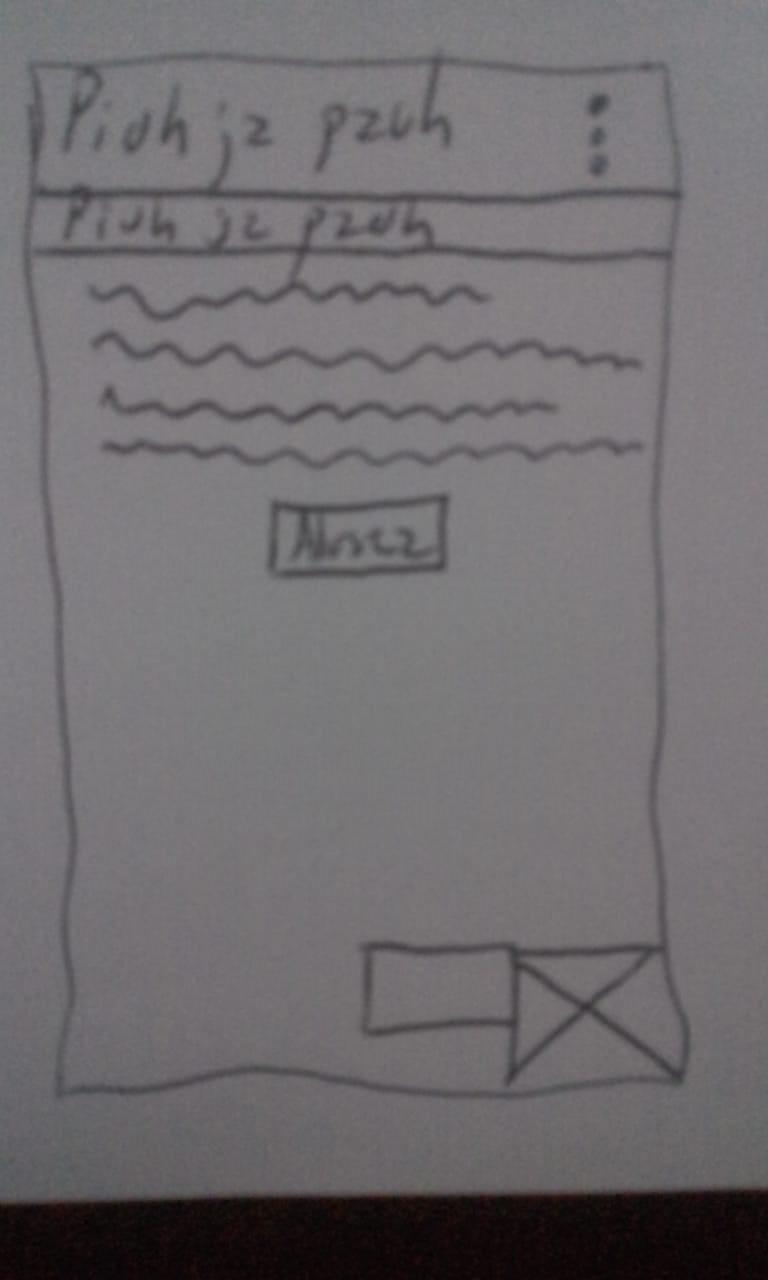Button: (268, 492, 450, 580)
Image: (511, 945, 690, 1094)
Label: (88, 273, 649, 476), (60, 64, 455, 172), (63, 183, 439, 251)
Screen: (20, 51, 691, 1097)
